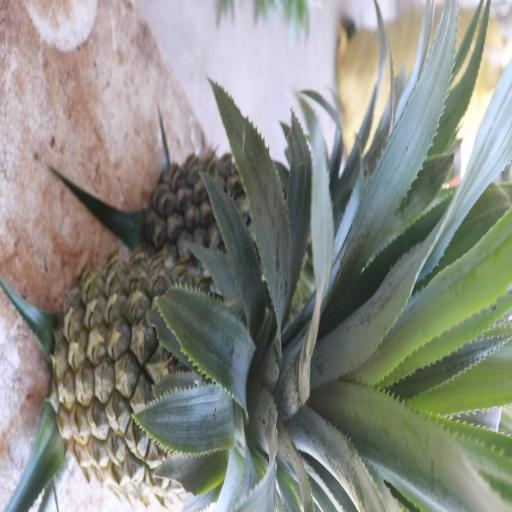------------------------------: (52, 248, 282, 486)
